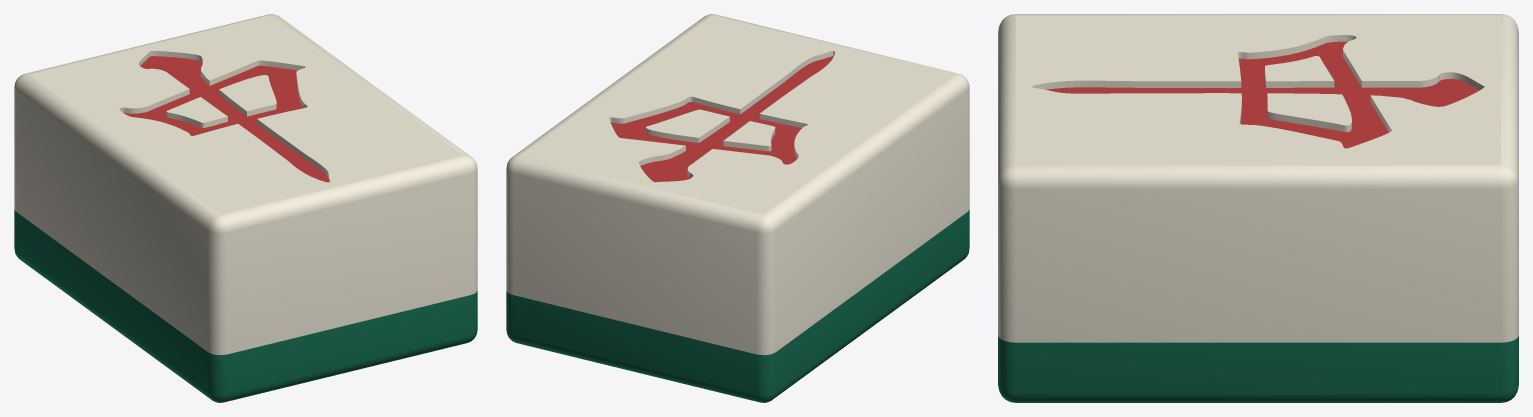
Rendered from Chun.glb.
3 renders of one model, left to right at view 1: azimuth 30°, elevation 25°; view 2: azimuth 150°, elevation 25°; view 3: azimuth 270°, elevation 25°, orthographic. The views are drawn at different scales.
Parts seen in each view (by area): view 1: Chun_body, Chun_inset; view 2: Chun_body, Chun_inset; view 3: Chun_body, Chun_inset.
Part boxes in pixels (x1,y1,x2,y2): Chun_body: [14, 14, 477, 402]; Chun_inset: [123, 56, 328, 182]; Chun_body: [506, 14, 969, 402]; Chun_inset: [610, 56, 833, 182]; Chun_body: [998, 14, 1518, 402]; Chun_inset: [1046, 41, 1479, 148].
Bounding box in the file's own units: 0.024 × 0.016 × 0.032.
